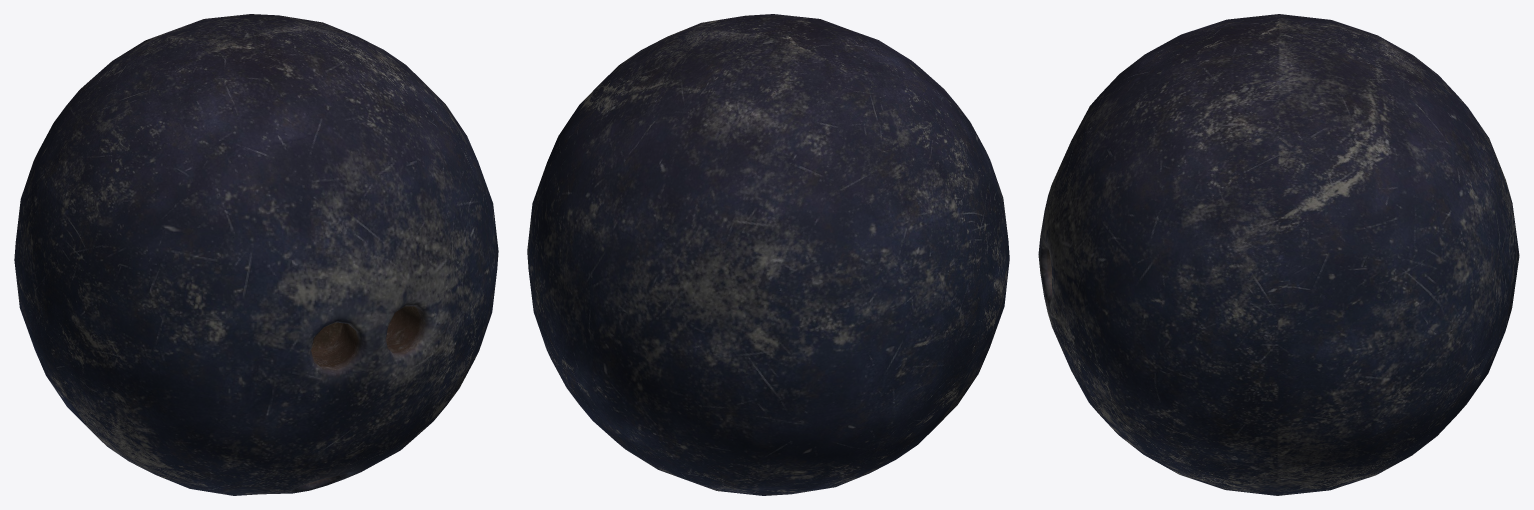
The model's file is bowling_ball.glb.
3 renders of one model, left to right at view 1: azimuth 30°, elevation 25°; view 2: azimuth 150°, elevation 25°; view 3: azimuth 270°, elevation 25°, orthographic.
Visible parts, largest first — view 1: g; view 2: g; view 3: g.
Boxes of the visible parts, bbox=[...] form: g: bbox=[14, 14, 498, 495]; g: bbox=[527, 14, 1009, 495]; g: bbox=[1038, 14, 1519, 495].
Size of the model in its own units: 2 by 2 by 2.
1 material, 1 textured.
